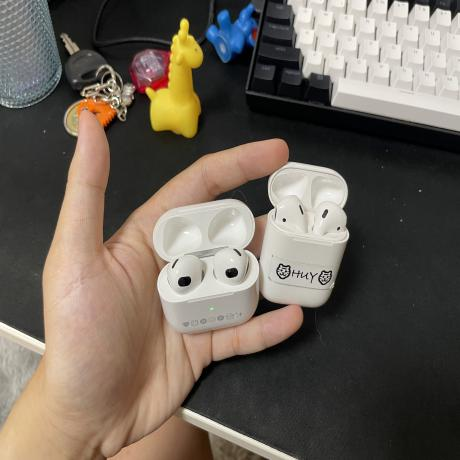airpod2: (259, 150, 355, 316)
airpod3: (151, 197, 264, 340)
